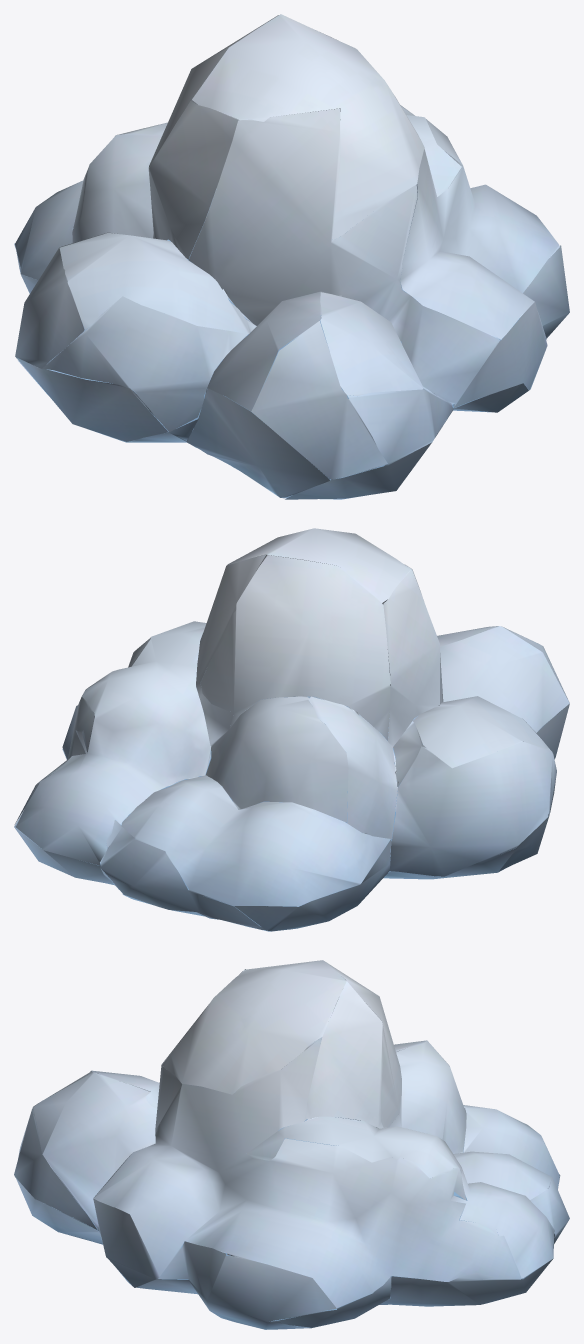
File: cloud_gen_c.glb
3 renders of one model, top to bottom at view 1: azimuth 30°, elevation 25°; view 2: azimuth 150°, elevation 25°; view 3: azimuth 270°, elevation 25°, orthographic. The views are drawn at different scales.
Visible parts, largest first — view 1: cloud_gen.002; view 2: cloud_gen.002; view 3: cloud_gen.002.
Part boxes in pixels (x1=…): cloud_gen.002: x1=14, y1=14, x2=569, y2=499; cloud_gen.002: x1=14, y1=528, x2=569, y2=931; cloud_gen.002: x1=14, y1=960, x2=569, y2=1329.
Bounding box in the file's own units: 0.8924 × 0.5544 × 1.
Materials: 1 (1 with a texture image).
